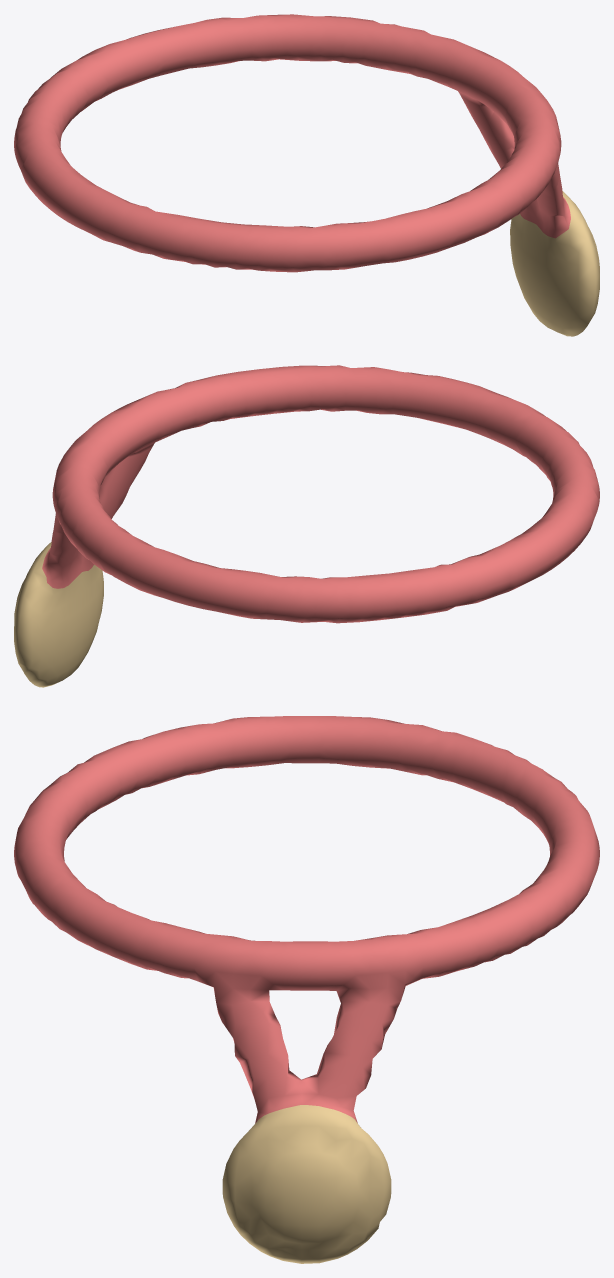
Rendered from acc_medal.glb.
3 views of the same model, one above another, from view 1: azimuth 30°, elevation 25°; view 2: azimuth 150°, elevation 25°; view 3: azimuth 270°, elevation 25° (orthographic). The views are drawn at different scales.
Visible parts, largest first — view 1: body; view 2: body; view 3: body.
Part boxes in pixels (x1,y1,x2,y2): body: (14, 14, 599, 336); body: (14, 365, 599, 687); body: (14, 716, 599, 1263).
Bounding box in the file's own units: 0.7404 × 0.3627 × 0.6558.
